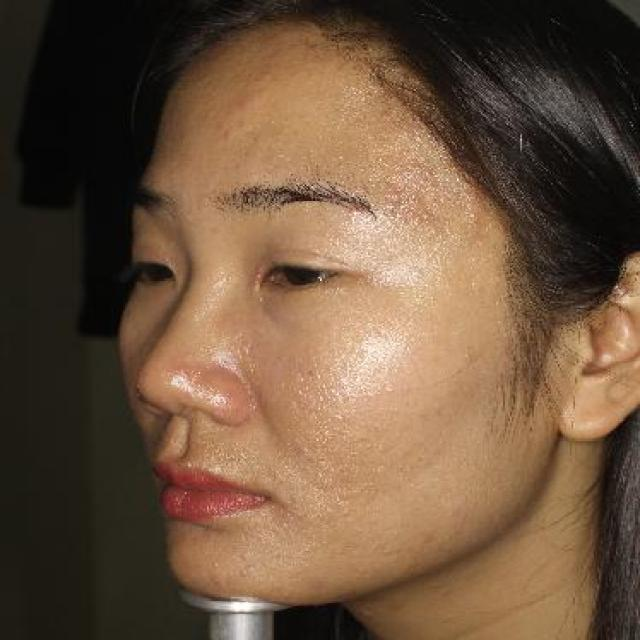whiteheads: (234, 569, 255, 580), (234, 550, 252, 562), (421, 209, 435, 223), (404, 380, 416, 395), (383, 198, 394, 214), (382, 383, 395, 395), (205, 562, 226, 569), (428, 182, 441, 192), (303, 544, 313, 556), (389, 190, 402, 198)
